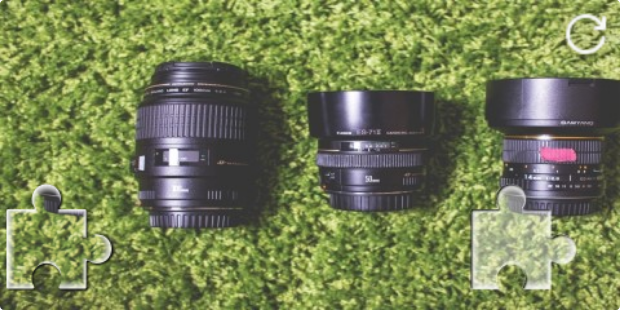target: (471, 185, 576, 289)
